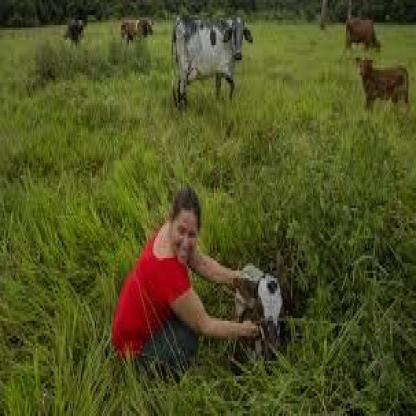cow: (171, 15, 253, 110), (354, 54, 409, 114), (346, 16, 382, 56), (121, 18, 155, 45), (65, 19, 85, 49)
